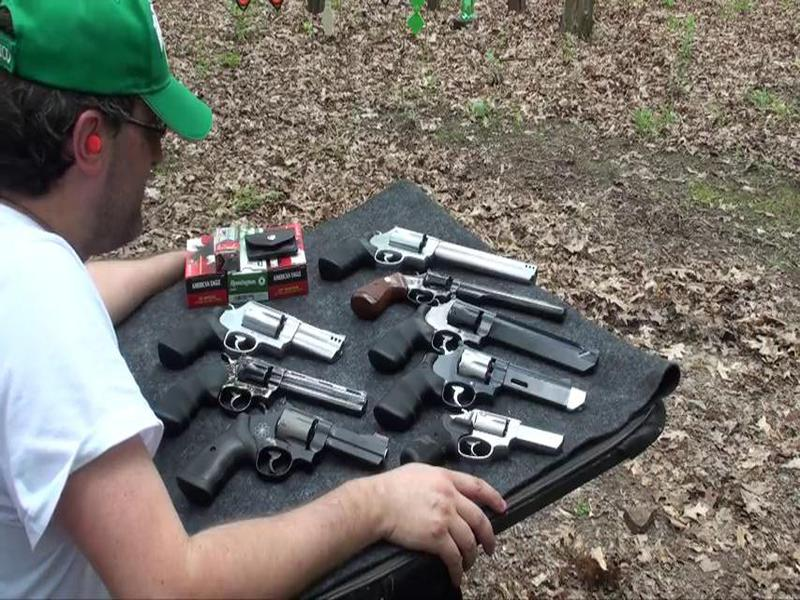Revolver: (147, 334, 377, 430)
